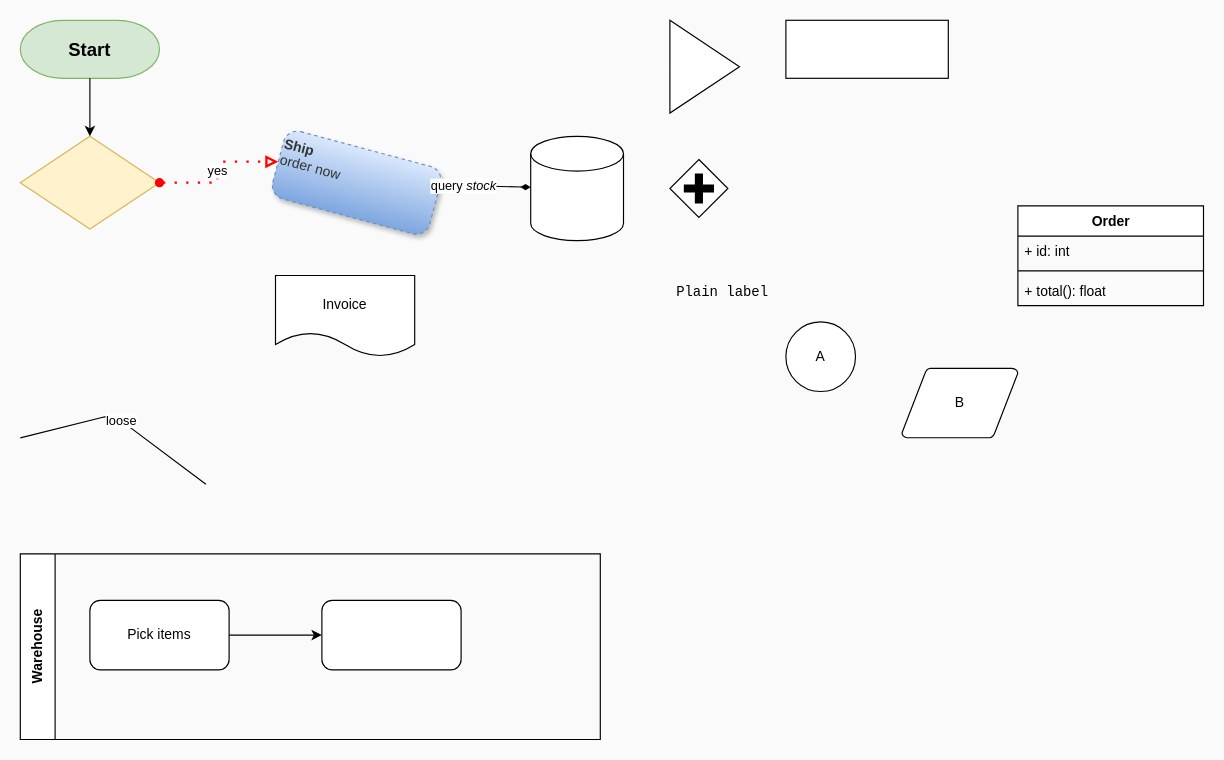
Some shapes in this 1224 by 760 pixel diagram are drawn without their labels. Each missing label, with the centre of its shape:
Ada Lovelace: point (866, 48)
In stock?: point (89, 182)
Pack: point (391, 634)
Stock DB: point (577, 188)
